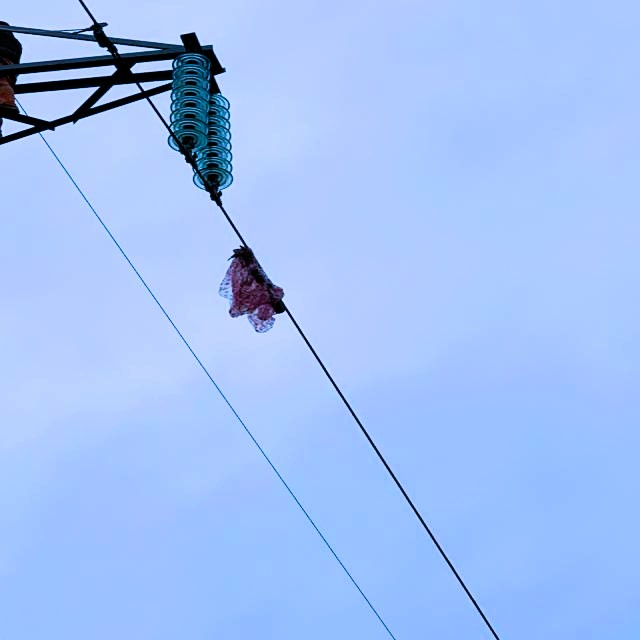wire foreign body: (207, 242, 296, 335)
